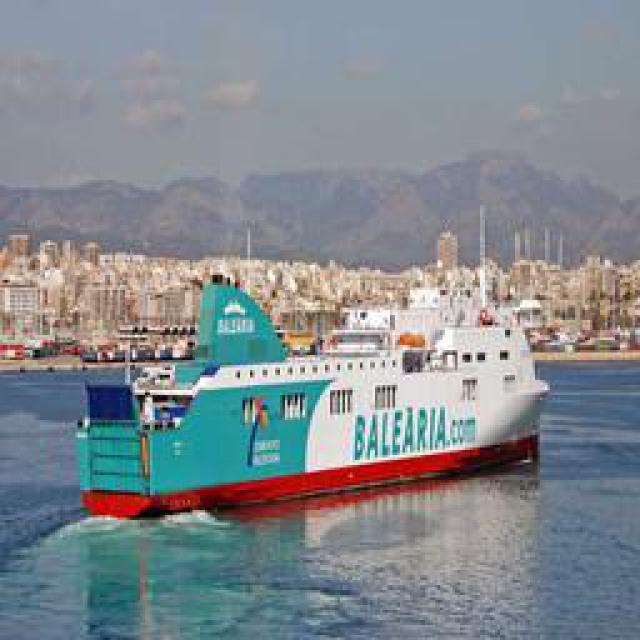Ship: (73, 289, 551, 519)
